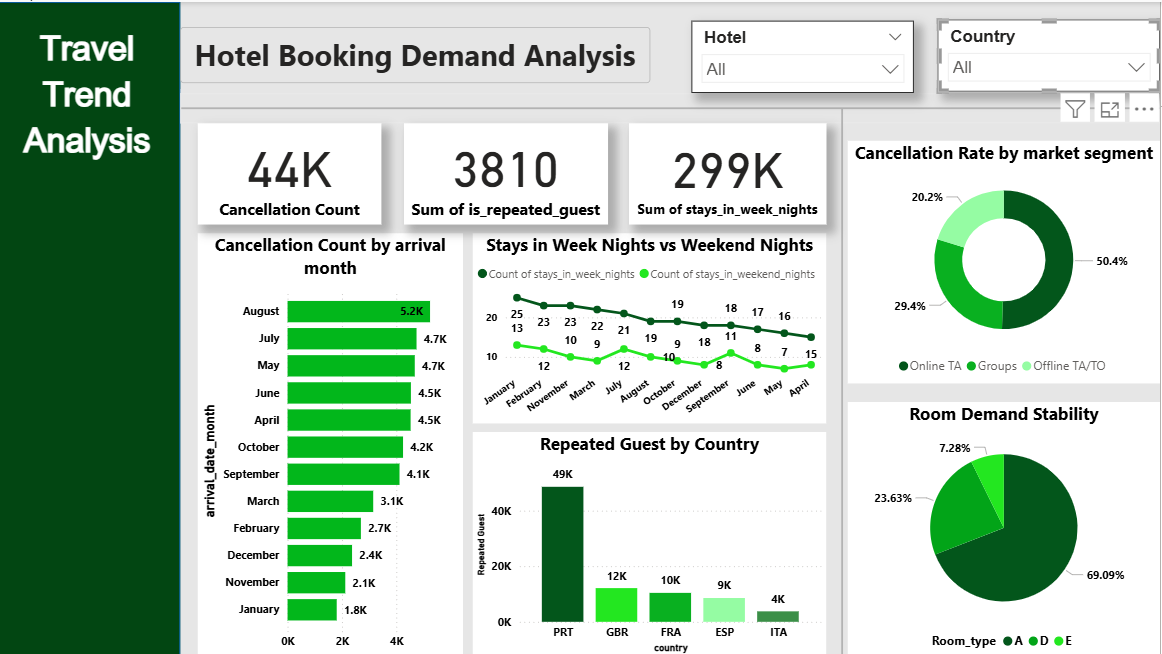

This screenshot's page, from the dashboard's own definition file:
{"tool":"powerbi","page":{"name":"Page 1","canvas":[1280,720],"ordinal":0},"visuals":[{"type":"shape","box":[0,0,204.5,720.4],"z":0},{"type":"shape","box":[204.5,100.2,1075.8,32.9],"z":1000},{"type":"shape","box":[924.9,116.6,12.3,603.8],"z":2000},{"type":"textbox","box":[204.5,27.4,516,61.7],"z":3000},{"type":"barChart","title":"Cancellation Count by arrival month","fields":{"Category":["hotel_bookings.arrival_date_month"],"Y":["hotel_bookings.Cancellation Count"]},"box":[223.7,253.9,290.9,466.6],"z":4000},{"type":"lineChart","title":"Stays in Week Nights vs Weekend Nights","fields":{"Category":["hotel_bookings.arrival_date_month"],"Y":["Count(hotel_bookings.stays_in_week_nights)","Count(hotel_bookings.stays_in_weekend_nights)"]},"box":[525.6,253.9,388.3,208.6],"z":5000},{"type":"columnChart","title":"Repeated Guest by Country","fields":{"Category":["hotel_bookings.country"],"Y":["CountNonNull(hotel_bookings.is_repeated_guest)"]},"box":[525.6,472,388.3,248.4],"z":6000},{"type":"donutChart","title":"Cancellation Rate by market segment","fields":{"Category":["hotel_bookings.market_segment"],"Y":["hotel_bookings.Cancellation Count"]},"box":[937.2,152.3,343.1,266.2],"z":7000},{"type":"pieChart","title":"Room Demand Stability","fields":{"Category":["hotel_bookings.assigned_room_type"],"Y":["CountNonNull(hotel_bookings.previous_bookings_not_canceled)"]},"box":[937.2,439.1,343.1,281.3],"z":8000},{"type":"card","fields":{"Values":["hotel_bookings.Cancellation Count"]},"box":[223.7,133.1,201.7,111.1],"z":9000},{"type":"card","fields":{"Values":["Sum(hotel_bookings.is_repeated_guest)"]},"box":[450.1,133.1,223.7,111.1],"z":10000},{"type":"card","fields":{"Values":["Sum(hotel_bookings.stays_in_week_nights)"]},"box":[697.1,133.1,216.8,111.1],"z":11000},{"type":"slicer","fields":{"Values":["hotel_bookings.country"]},"box":[1036,19.2,244.3,79.6],"z":12000},{"type":"slicer","fields":{"Values":["hotel_bookings.hotel"]},"box":[765.7,20.6,244.3,79.6],"z":13000},{"type":"textbox","box":[8.2,19.2,188,177],"z":14000}]}

Visuals, with their boxes in screenshot pixels (x1, y1, x2, y2), scaled from the page's 1280x720 canvas onto the 1162x654 screenshot:
shape: 0:0:186:653
shape: 186:91:1161:121
shape: 840:106:851:653
textbox: 186:25:654:81
"Cancellation Count by arrival month" barChart: 203:231:467:653
"Stays in Week Nights vs Weekend Nights" lineChart: 477:231:830:420
"Repeated Guest by Country" columnChart: 477:429:830:653
"Cancellation Rate by market segment" donutChart: 851:138:1161:380
"Room Demand Stability" pieChart: 851:399:1161:653
card - hotel_bookings.Cancellation Count: 203:121:386:222
card - Sum(hotel_bookings.is_repeated_guest): 409:121:612:222
card - Sum(hotel_bookings.stays_in_week_nights): 633:121:830:222
slicer - hotel_bookings.country: 940:17:1161:90
slicer - hotel_bookings.hotel: 695:19:917:91
textbox: 7:17:178:178
